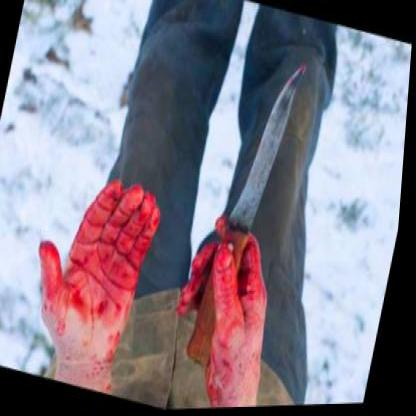knife: (192, 38, 314, 306)
